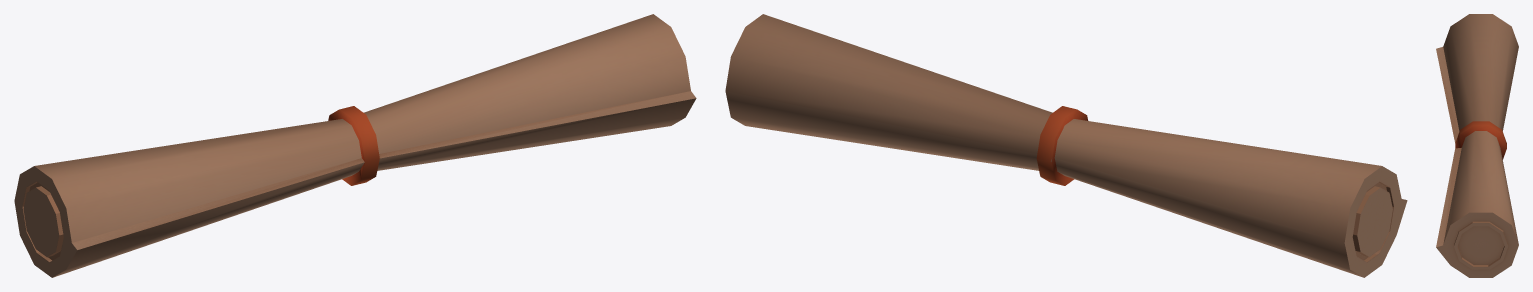
Rendered from Scroll.fbx.
The picture shows the model from 3 angles, left to right: view 1: azimuth 30°, elevation 25°; view 2: azimuth 150°, elevation 25°; view 3: azimuth 270°, elevation 25°; orthographic projection. The views are drawn at different scales.
Parts seen in each view (by area): view 1: Cylinder.039; view 2: Cylinder.039; view 3: Cylinder.039.
Part boxes in pixels (box(x1,y1,x2,y2)): Cylinder.039: box(14, 14, 696, 277); Cylinder.039: box(725, 14, 1407, 277); Cylinder.039: box(1436, 14, 1518, 277).
Size of the model in its own units: 214 by 32.65 by 37.26.
